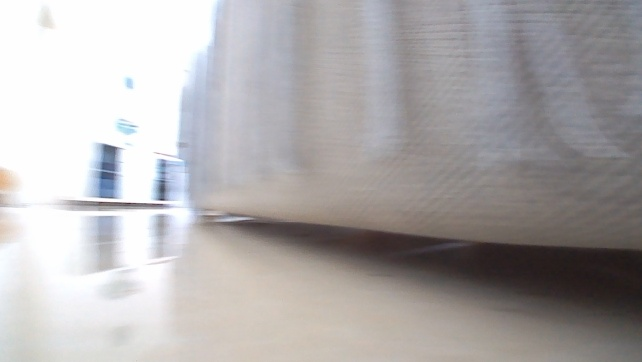sofa1: (187, 0, 641, 253)
